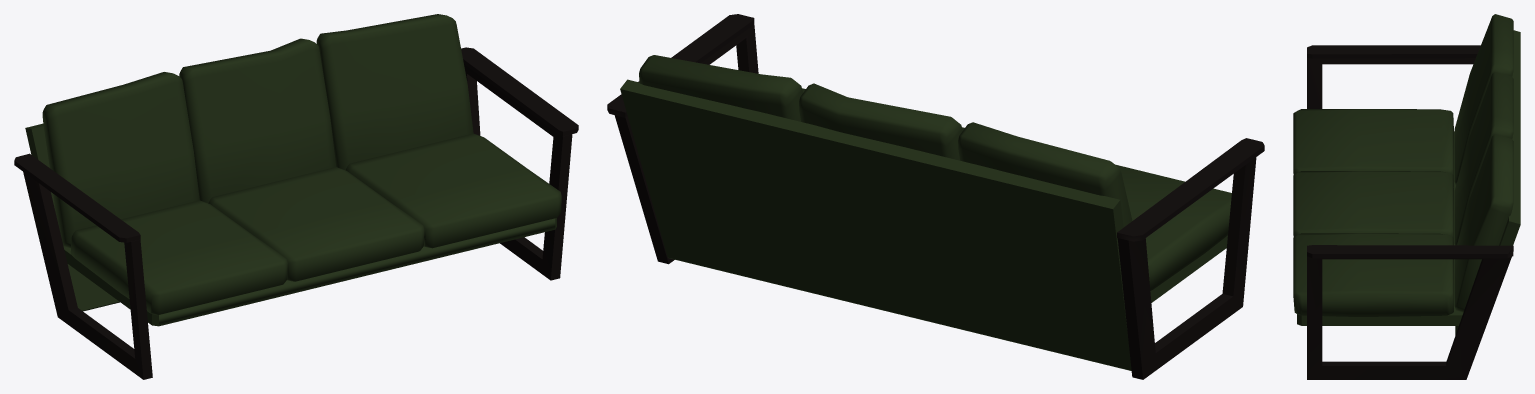
The model's file is Divan_type1.FBX.
3 renders of one model, left to right at view 1: azimuth 30°, elevation 25°; view 2: azimuth 150°, elevation 25°; view 3: azimuth 270°, elevation 25°, orthographic. The views are drawn at different scales.
Size of the model in its own units: 488 by 204 by 225.
